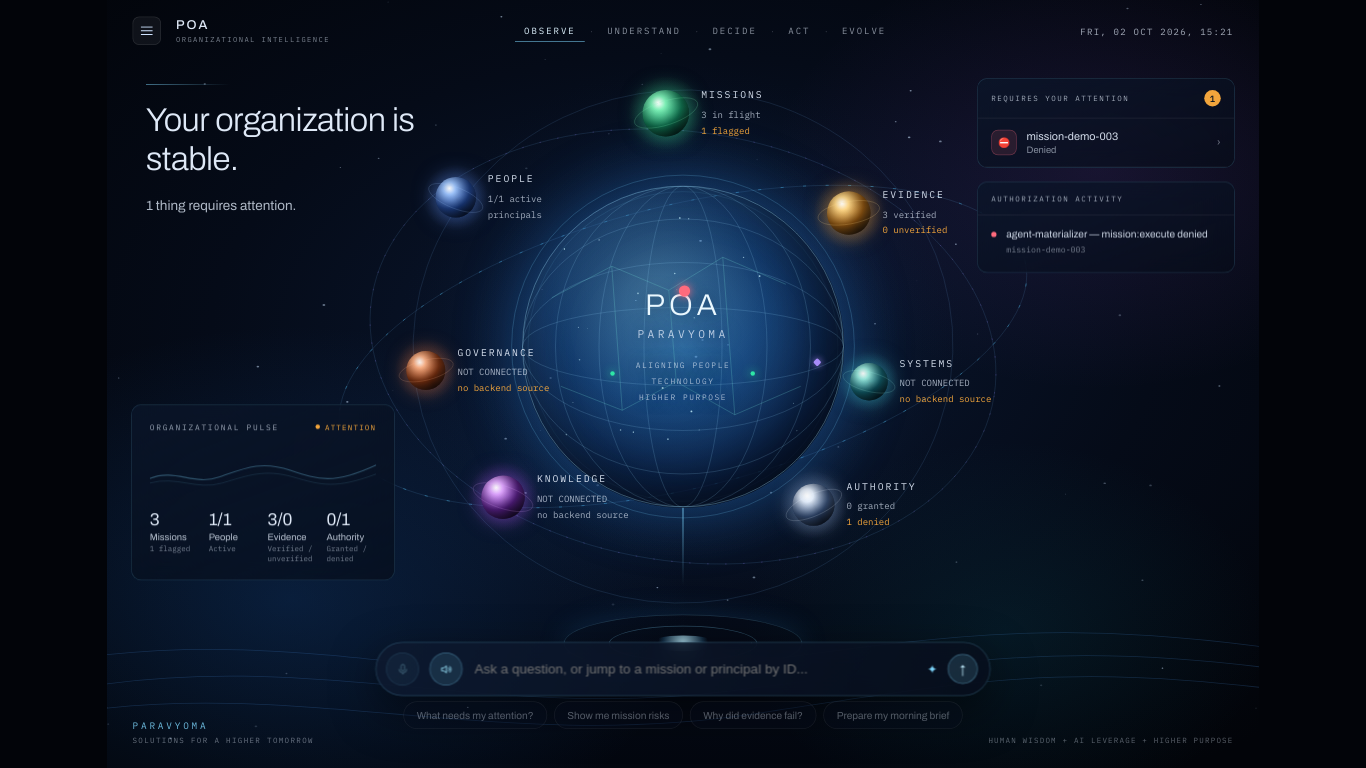
Test: voice shell — supported browser › stops speaking when activated again
Expected: the text "1 thing requires attention." is shown, [146,198,296,213]
Click the button named "Speak greeting".
click(446, 669)  # box [430,652,462,686]
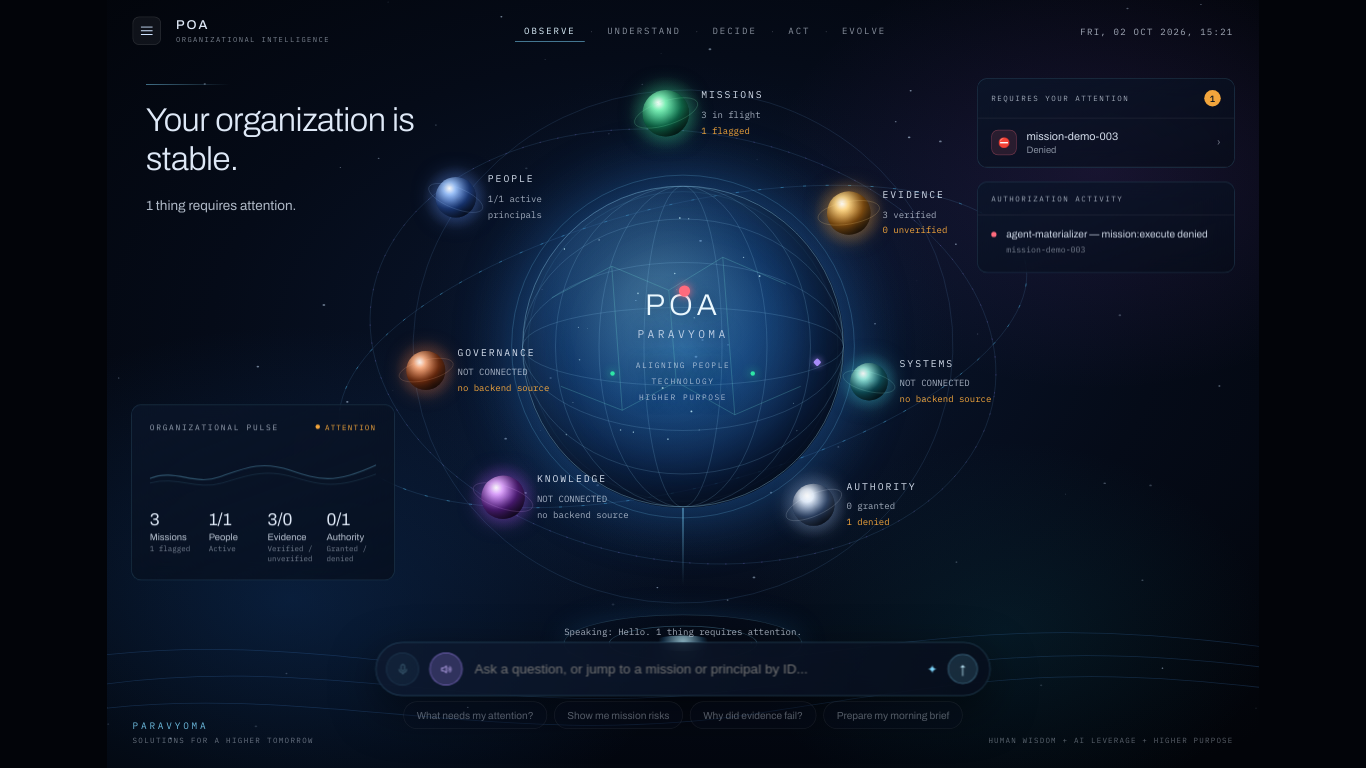
Click the button named "Stop speaking".
click(446, 669)  # box [430,652,462,686]
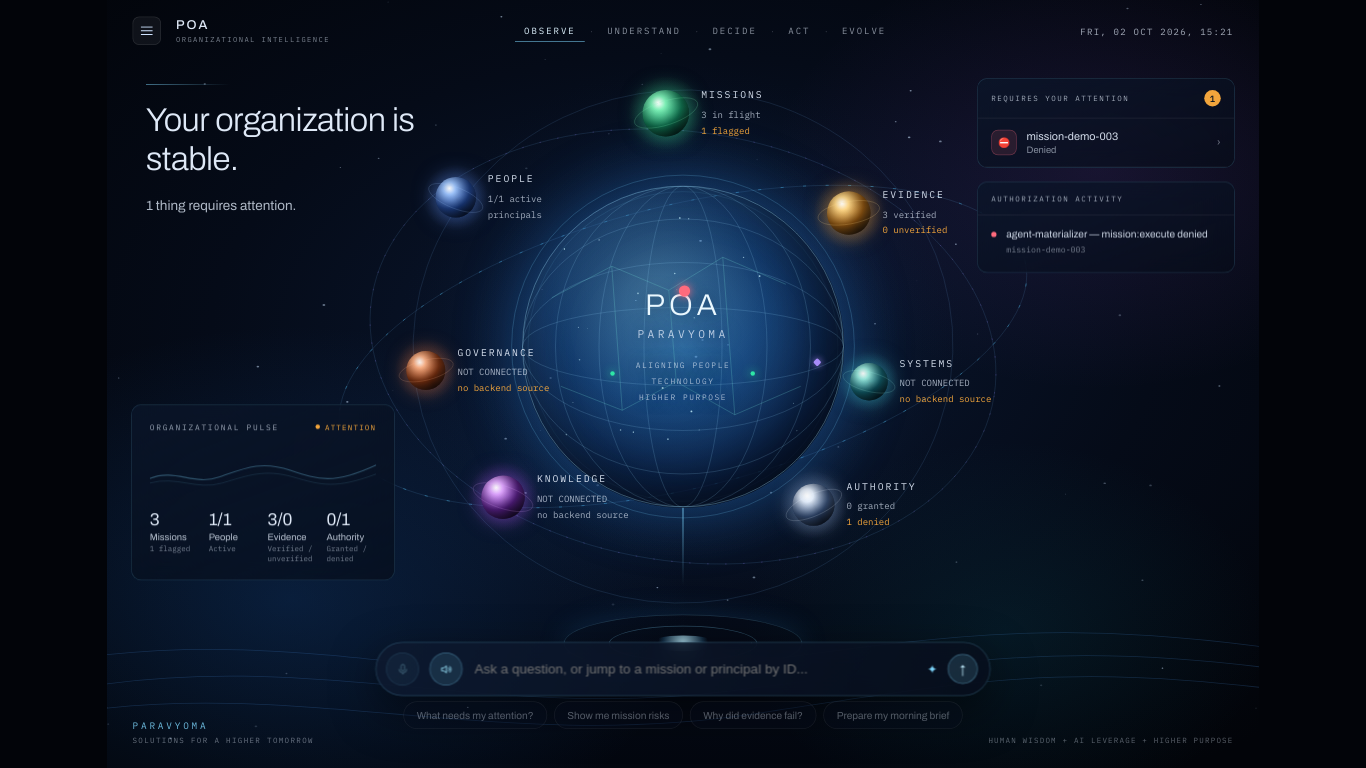
Result: the button named "Speak greeting" is shown at [430,652,462,686]
